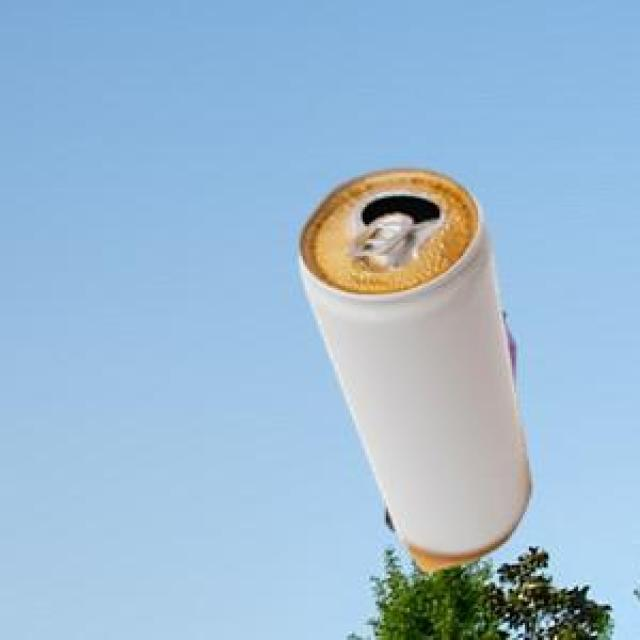Can: (298, 165, 528, 569), (443, 319, 513, 460)
